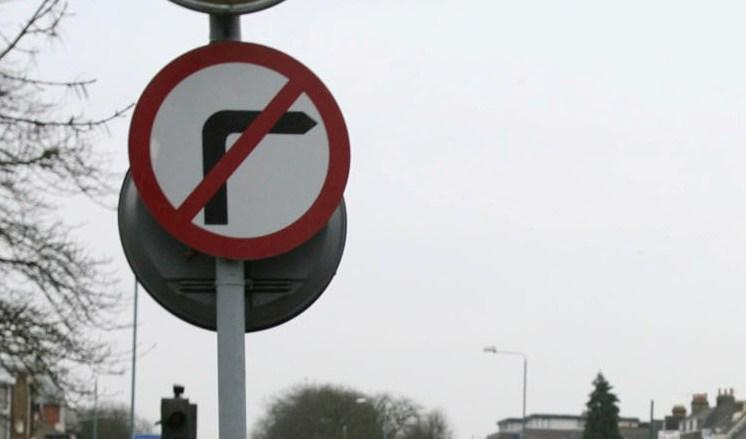no_right_turn: (127, 42, 350, 258)
